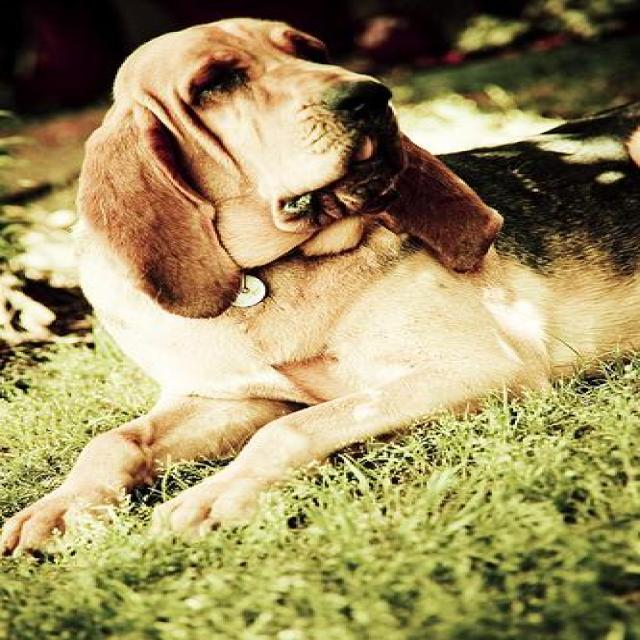bloodhound: (0, 14, 636, 567)
